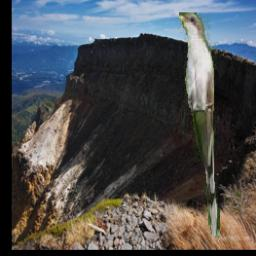Cuckoo: (179, 13, 220, 239)
